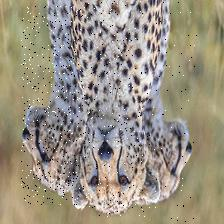Cheetha: (82, 0, 151, 216), (22, 5, 86, 204), (143, 0, 197, 224)
